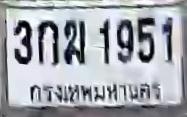1: (162, 17, 173, 63), (99, 19, 110, 64)
3: (13, 19, 33, 65)
5: (137, 18, 155, 63)
9: (116, 19, 133, 63)
A01: (38, 20, 59, 66)
A06: (63, 20, 86, 65)
BKK: (27, 77, 165, 108)
